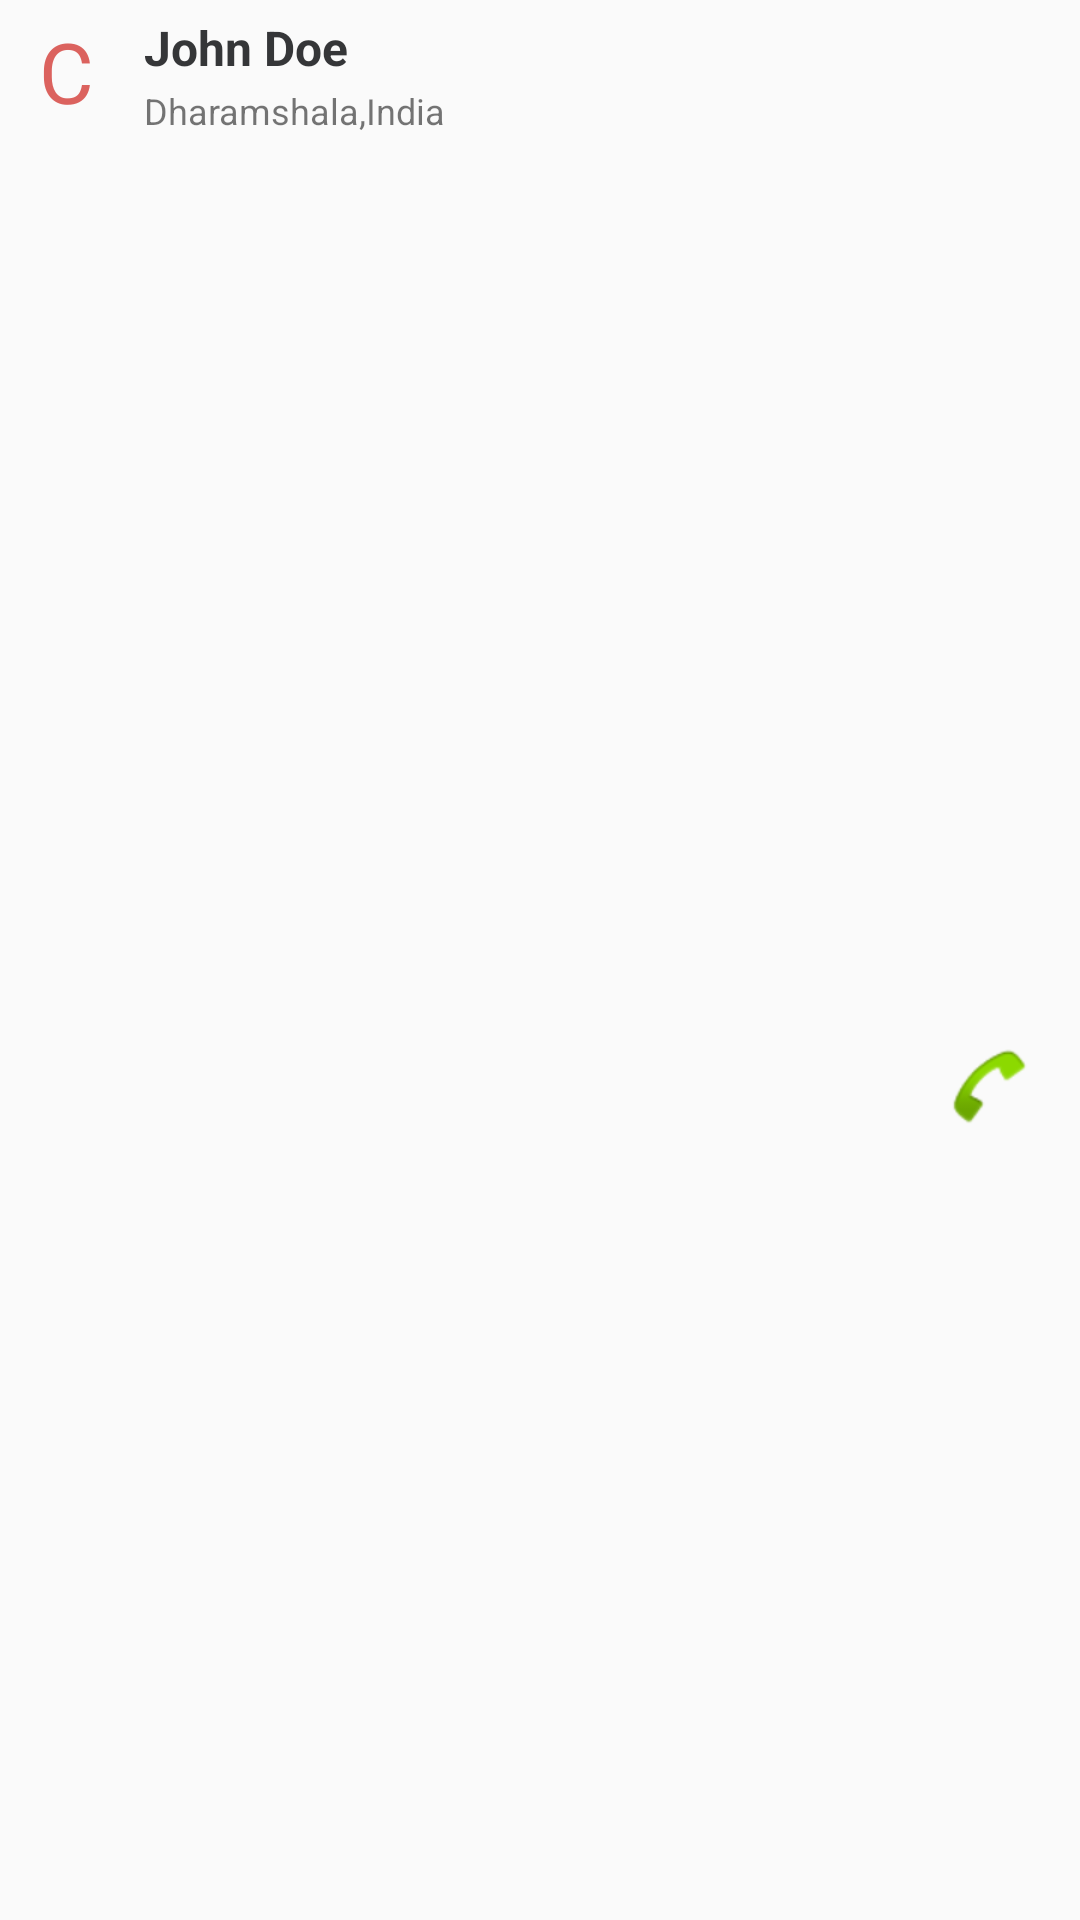

Locate icon controls on the screen. Image size 1080px x 1920px, boxes as (x1, y1, x2, y2).
Press to call: (953, 1050, 1026, 1123)
